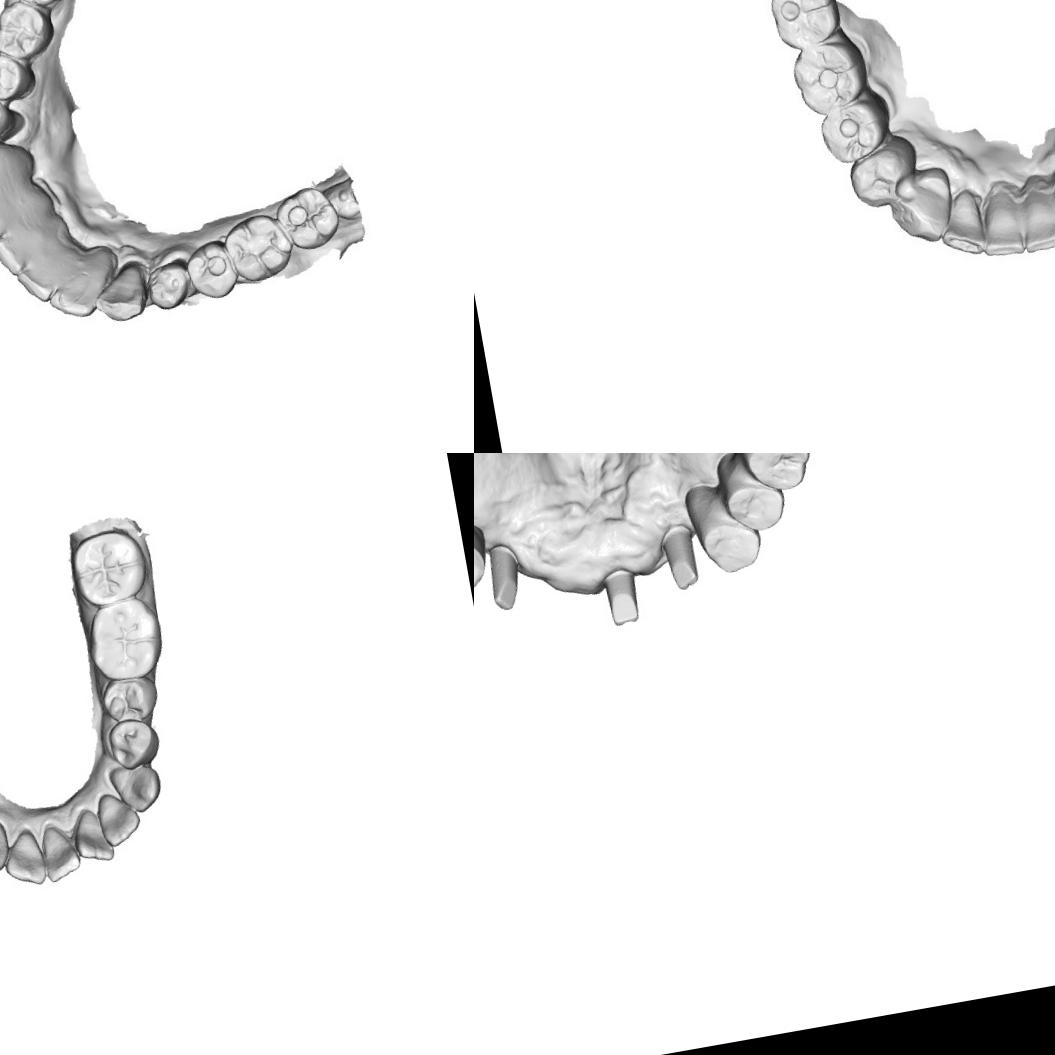abutment: (655, 521, 703, 595), (482, 540, 528, 613), (600, 562, 644, 629)
canine: (888, 168, 956, 246), (89, 262, 150, 326), (105, 759, 165, 817), (0, 137, 38, 200), (0, 816, 13, 876)
incisor: (933, 186, 994, 262), (976, 182, 1028, 260), (1012, 174, 1055, 256), (0, 825, 49, 891), (94, 787, 144, 849), (66, 804, 115, 867), (48, 272, 106, 324), (38, 820, 84, 884), (16, 258, 66, 302), (0, 184, 35, 242), (0, 227, 41, 274)
molar: (80, 594, 170, 686), (784, 34, 874, 120), (64, 523, 152, 610), (216, 206, 296, 287), (270, 179, 346, 254), (764, 0, 845, 54), (727, 453, 816, 498), (0, 0, 59, 67), (5, 0, 71, 17)
premolar: (681, 473, 766, 580), (711, 453, 791, 537), (842, 134, 924, 214), (812, 94, 896, 168), (181, 236, 241, 304), (143, 250, 201, 316), (97, 672, 162, 727), (104, 714, 164, 773), (0, 48, 33, 102), (474, 517, 494, 603), (0, 92, 19, 145)
